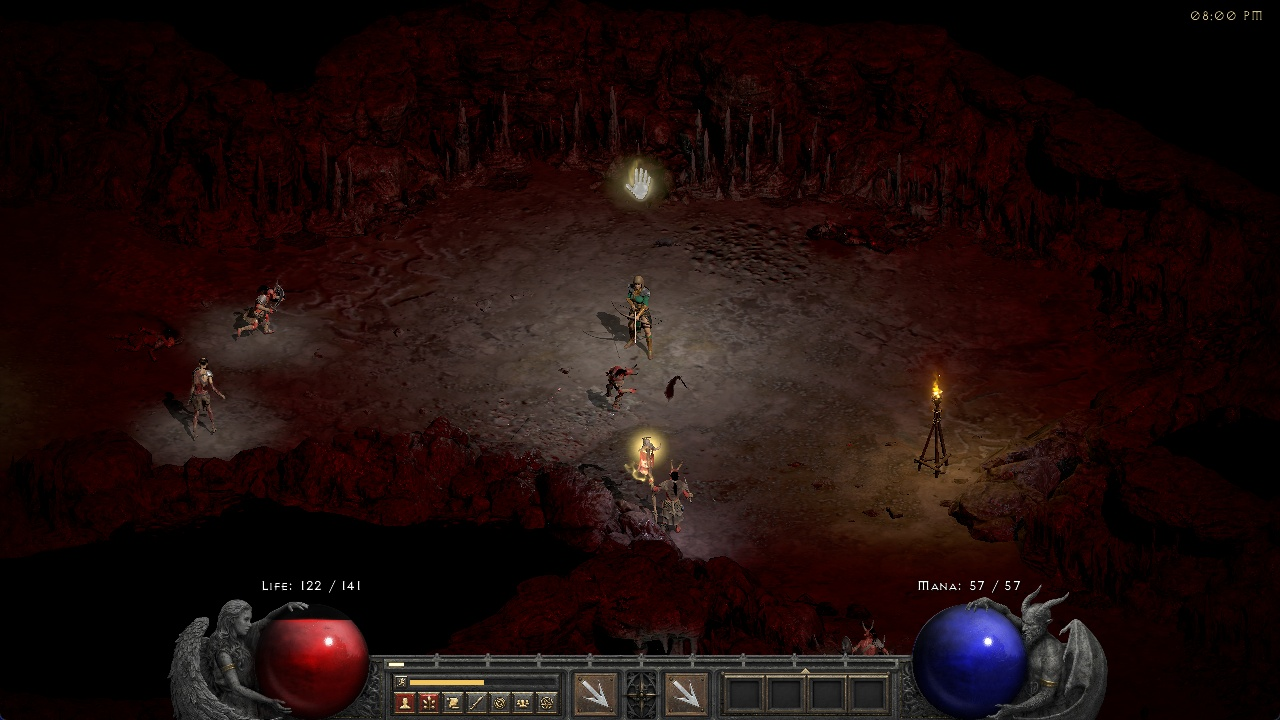fallen: (227, 279, 298, 338), (602, 362, 645, 408)
